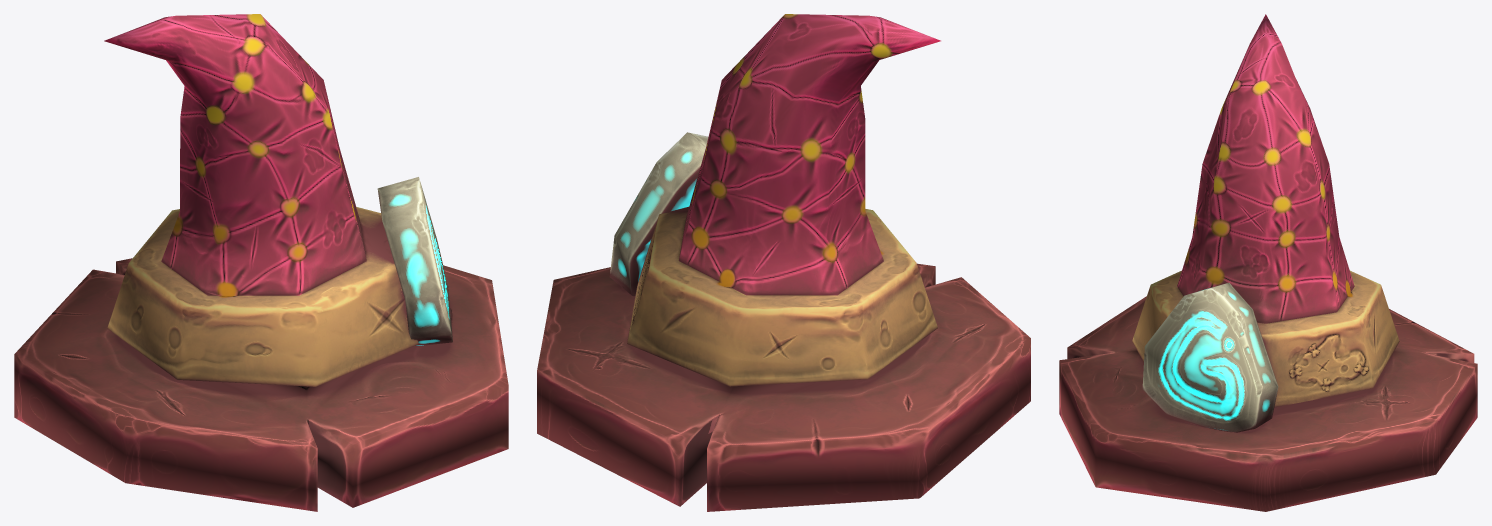
3 renders of one model, left to right at view 1: azimuth 30°, elevation 25°; view 2: azimuth 150°, elevation 25°; view 3: azimuth 270°, elevation 25°, orthographic. The views are drawn at different scales.
Visible parts, largest first — view 1: MageHat_Low; view 2: MageHat_Low; view 3: MageHat_Low.
Boxes of the visible parts, x1=… form: MageHat_Low: x1=14, y1=14, x2=508, y2=511; MageHat_Low: x1=537, y1=14, x2=1030, y2=511; MageHat_Low: x1=1059, y1=14, x2=1477, y2=511.
Size of the model in its own units: 0.019 by 0.0179 by 0.0192.
Materials: 1 (1 with a texture image).
